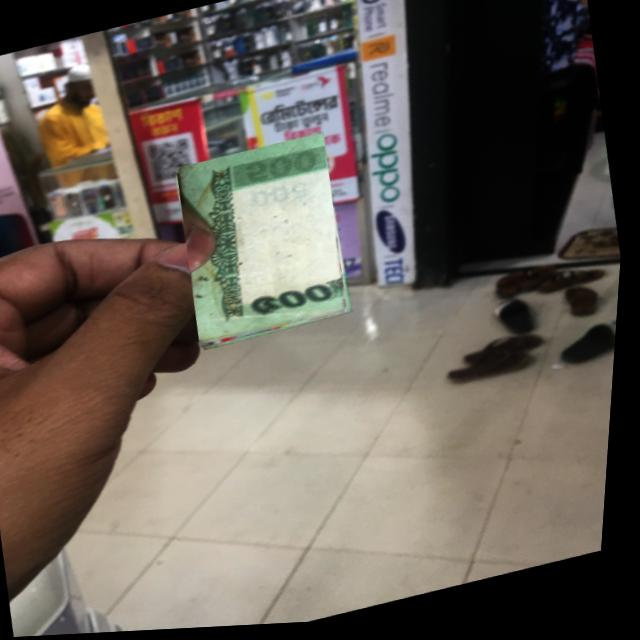Taka: (169, 134, 361, 351)
